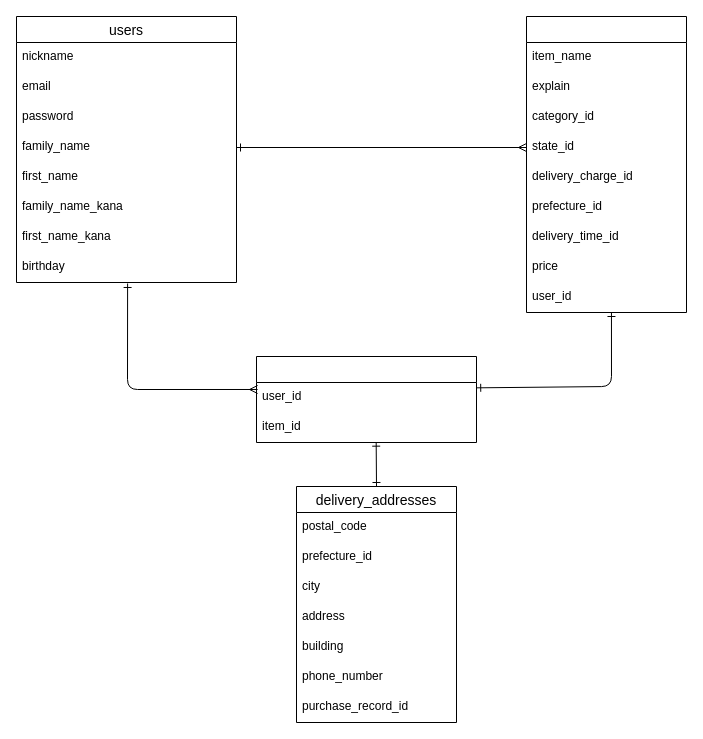
Some shapes in this 703 by 739 pixel diagram are drawn without their labels. The box of each missing label's shape, as (x1, y1, x2, y2) in pixels:
items: (526, 16, 686, 312)
purchase_records: (256, 356, 476, 442)
